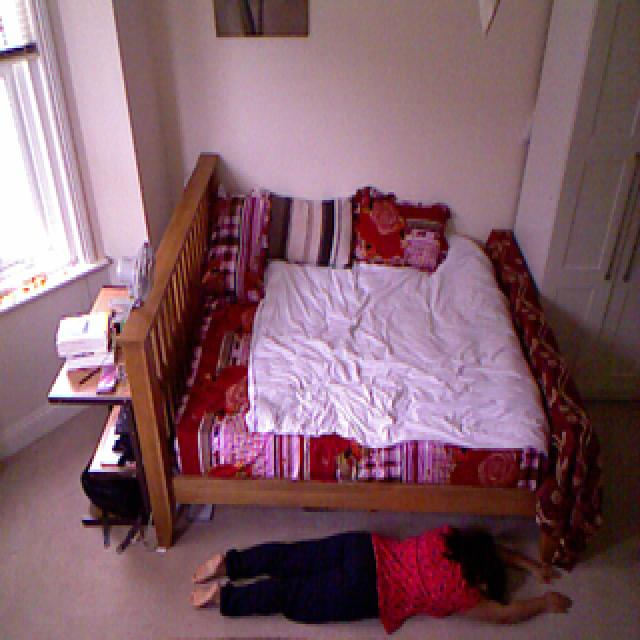lying: (189, 522, 576, 633)
